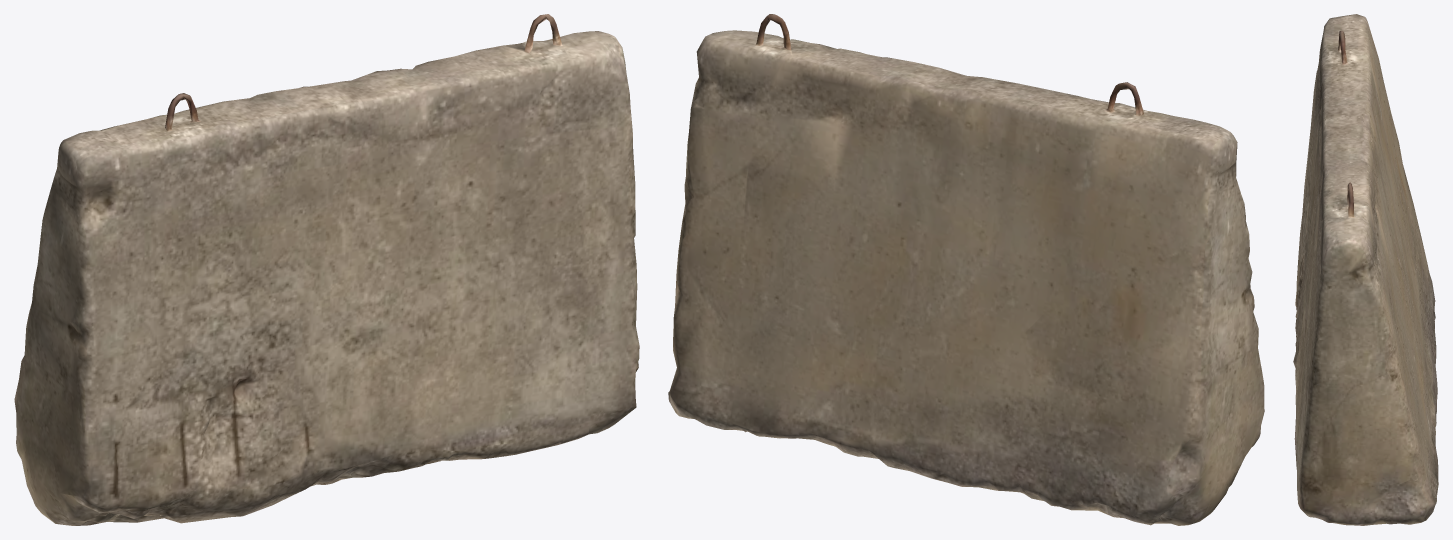
Rendered from concrete_road_barrier_02.glb.
3 views of the same model, side by side, from view 1: azimuth 30°, elevation 25°; view 2: azimuth 150°, elevation 25°; view 3: azimuth 270°, elevation 25° (orthographic). The views are drawn at different scales.
Visible parts, largest first — view 1: concrete_road_barrier_02; view 2: concrete_road_barrier_02; view 3: concrete_road_barrier_02.
Boxes of the visible parts, left/top/right/bottom form: concrete_road_barrier_02: left=14, top=14, right=639, bottom=525; concrete_road_barrier_02: left=668, top=14, right=1264, bottom=525; concrete_road_barrier_02: left=1293, top=14, right=1438, bottom=525.
Bounding box in the file's own units: 1.56 × 1.11 × 0.4418.
Materials: 1 (1 with a texture image).
